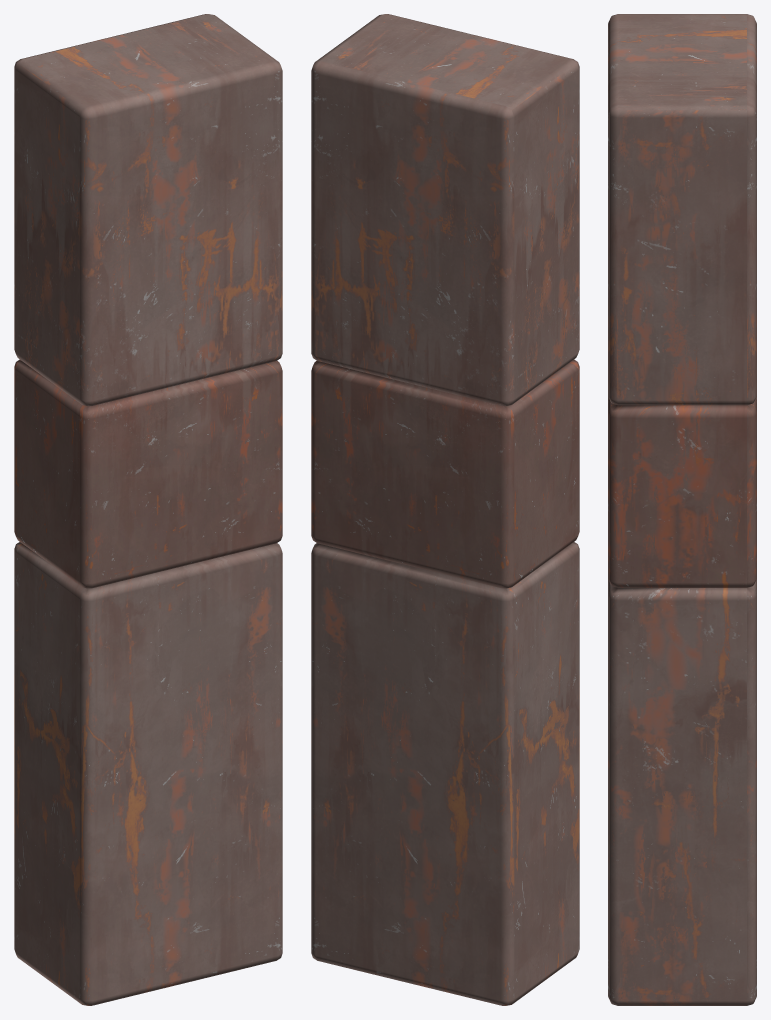
File: wall_006.fbx
3 views of the same model, side by side, from view 1: azimuth 30°, elevation 25°; view 2: azimuth 150°, elevation 25°; view 3: azimuth 270°, elevation 25° (orthographic).
Parts seen in each view (by area): view 1: wall_006; view 2: wall_006; view 3: wall_006.
Boxes of the visible parts, x1,y1,x2,y2 form: wall_006: (14,14,282,1005); wall_006: (311,14,579,1005); wall_006: (608,14,756,1005).
Size of the model in its own units: 2356 by 1500 by 10021.
